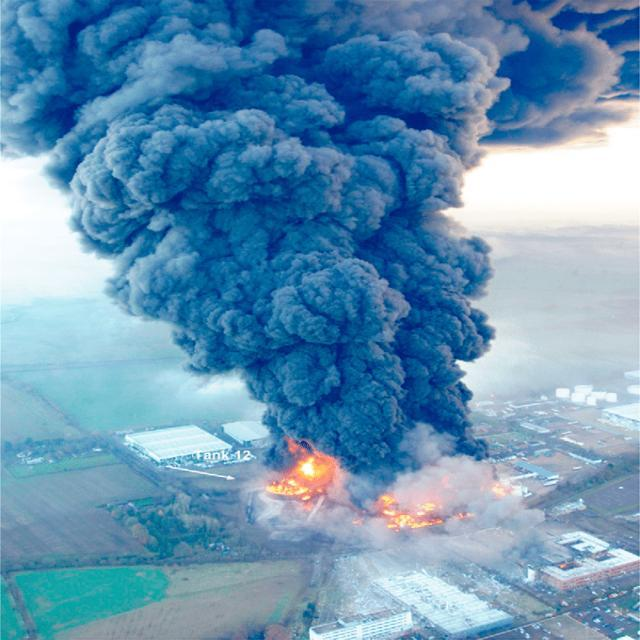Fire: (255, 441, 486, 541)
Smoke: (0, 0, 636, 452)
